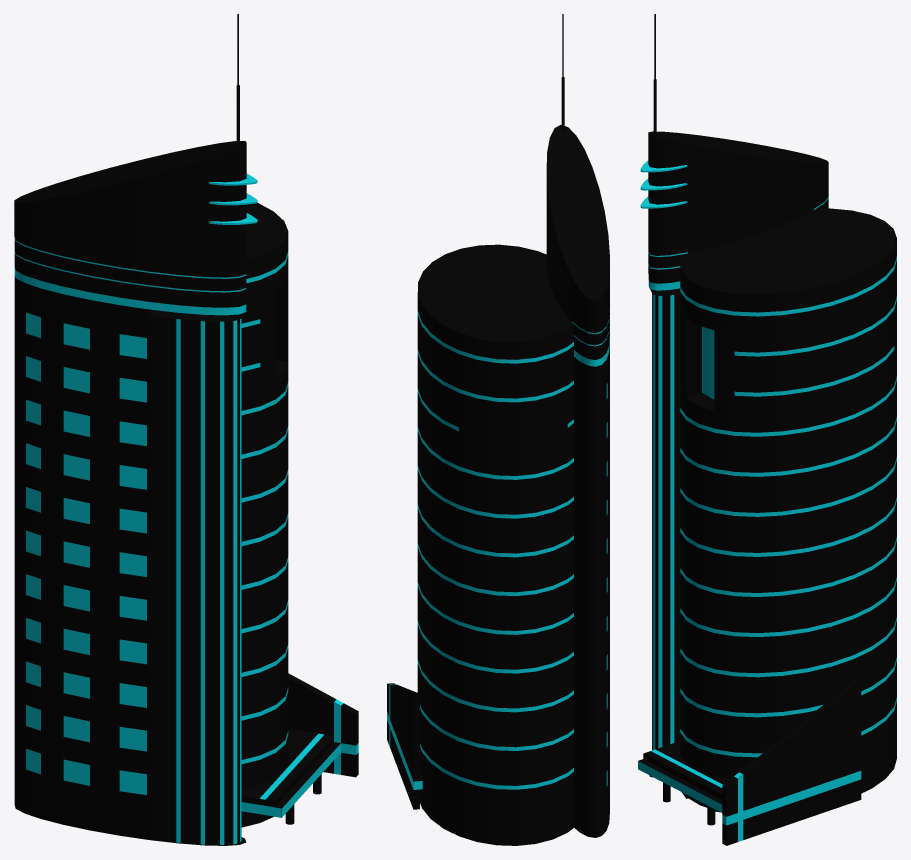
The picture shows the model from 3 angles, left to right: view 1: azimuth 30°, elevation 25°; view 2: azimuth 150°, elevation 25°; view 3: azimuth 270°, elevation 25°; orthographic projection. The views are drawn at different scales.
Visible parts, largest first — view 1: _b9; view 2: _b9; view 3: _b9.
Part boxes in pixels (bbox=[...]): _b9: bbox=[14, 14, 358, 845]; _b9: bbox=[387, 14, 609, 845]; _b9: bbox=[638, 14, 896, 845].
Size of the model in its own units: 10.27 by 27.73 by 8.56.
